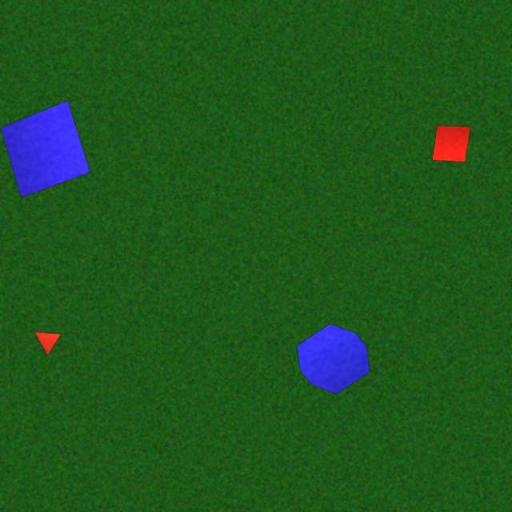BLUE_SQUARE: (0, 100, 91, 198)
RED_SQUARE: (432, 125, 471, 163)
